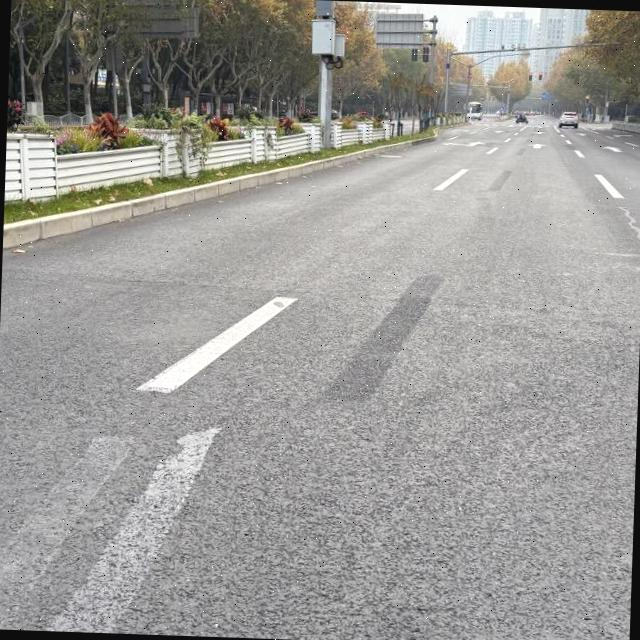curb: (2, 142, 410, 248)
